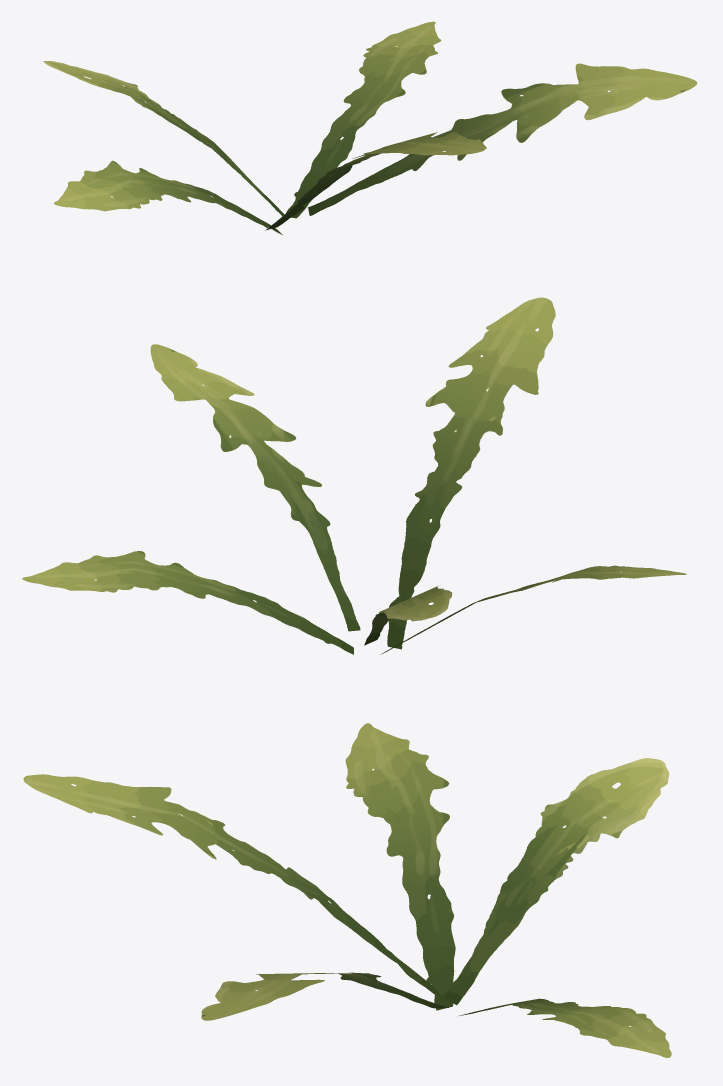
Rendered from DandelionLeafs2_Mesh.fbx.
The picture shows the model from 3 angles, top to bottom: view 1: azimuth 30°, elevation 25°; view 2: azimuth 150°, elevation 25°; view 3: azimuth 270°, elevation 25°; orthographic projection. The views are drawn at different scales.
Visible parts, largest first — view 1: Plane.166; view 2: Plane.166; view 3: Plane.166.
Boxes of the visible parts, x1,y1,x2,y2 form: Plane.166: (43,21,697,234); Plane.166: (22,297,686,654); Plane.166: (23,723,671,1057).
Bounding box in the file's own units: 0.5613 × 0.4648 × 0.1874.
